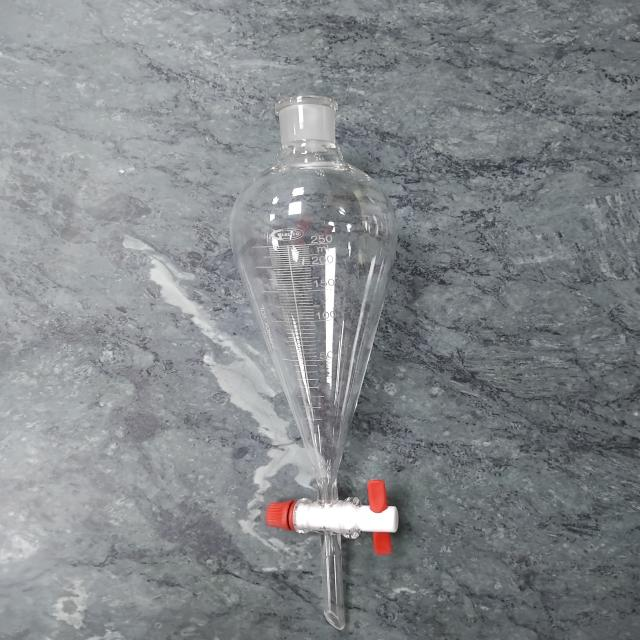Separating_Funnel: (184, 72, 465, 640)
